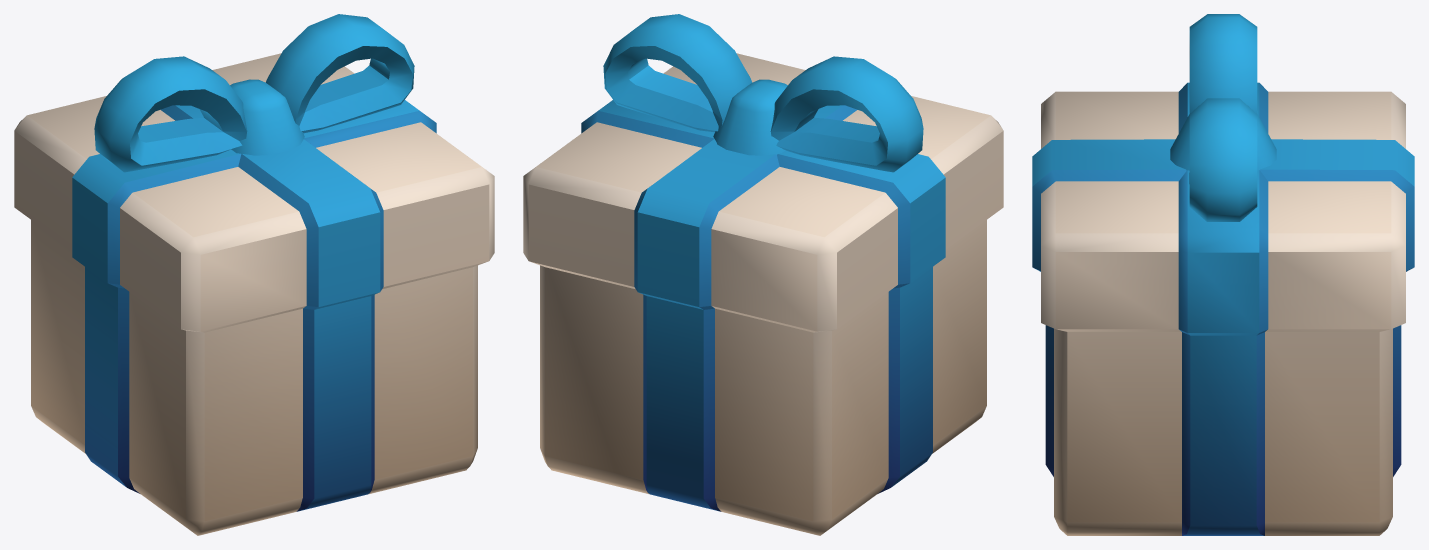
The model's file is present_A_white.glb.
3 views of the same model, side by side, from view 1: azimuth 30°, elevation 25°; view 2: azimuth 150°, elevation 25°; view 3: azimuth 270°, elevation 25° (orthographic).
Parts seen in each view (by area): view 1: present_A_white; view 2: present_A_white; view 3: present_A_white.
Part boxes in pixels (box(x1,y1,x2,y2)): present_A_white: box(14, 14, 494, 535); present_A_white: box(523, 14, 1003, 535); present_A_white: box(1032, 14, 1414, 535).
Size of the model in its own units: 0.5638 by 0.6617 by 0.5638.
Materials: 1 (1 with a texture image).
